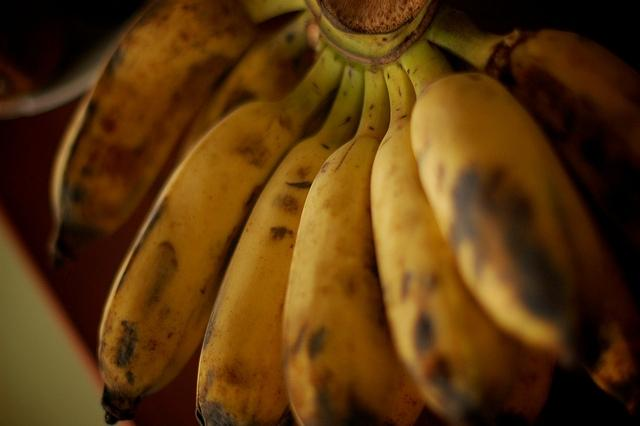banana: (97, 43, 347, 425), (397, 40, 608, 372), (50, 0, 302, 272), (370, 60, 552, 425), (195, 61, 364, 426), (425, 11, 640, 294), (283, 63, 427, 426), (178, 11, 316, 166)
